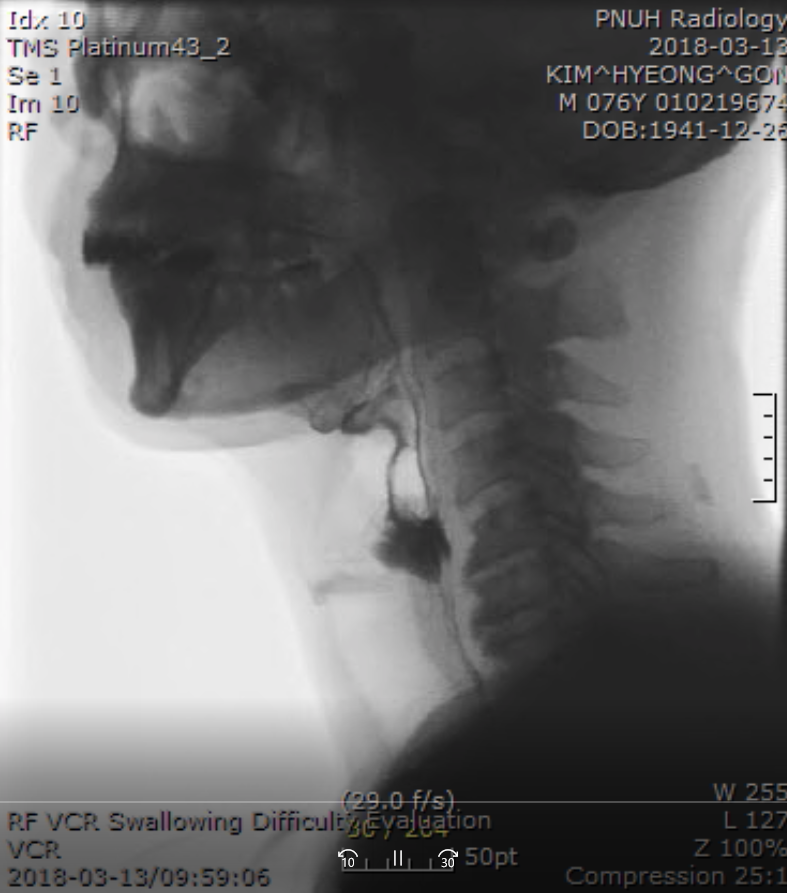dros: (361, 504, 455, 582), (388, 454, 438, 512)
uros: (336, 392, 395, 438)
